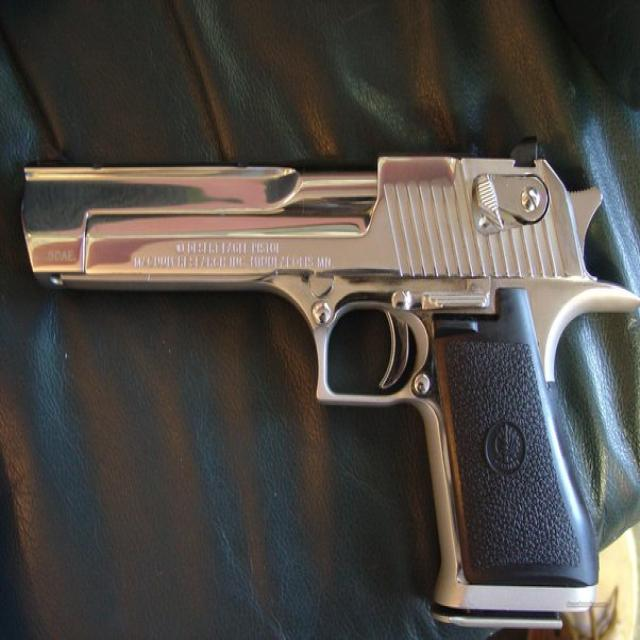HandGun: (21, 139, 640, 615)
